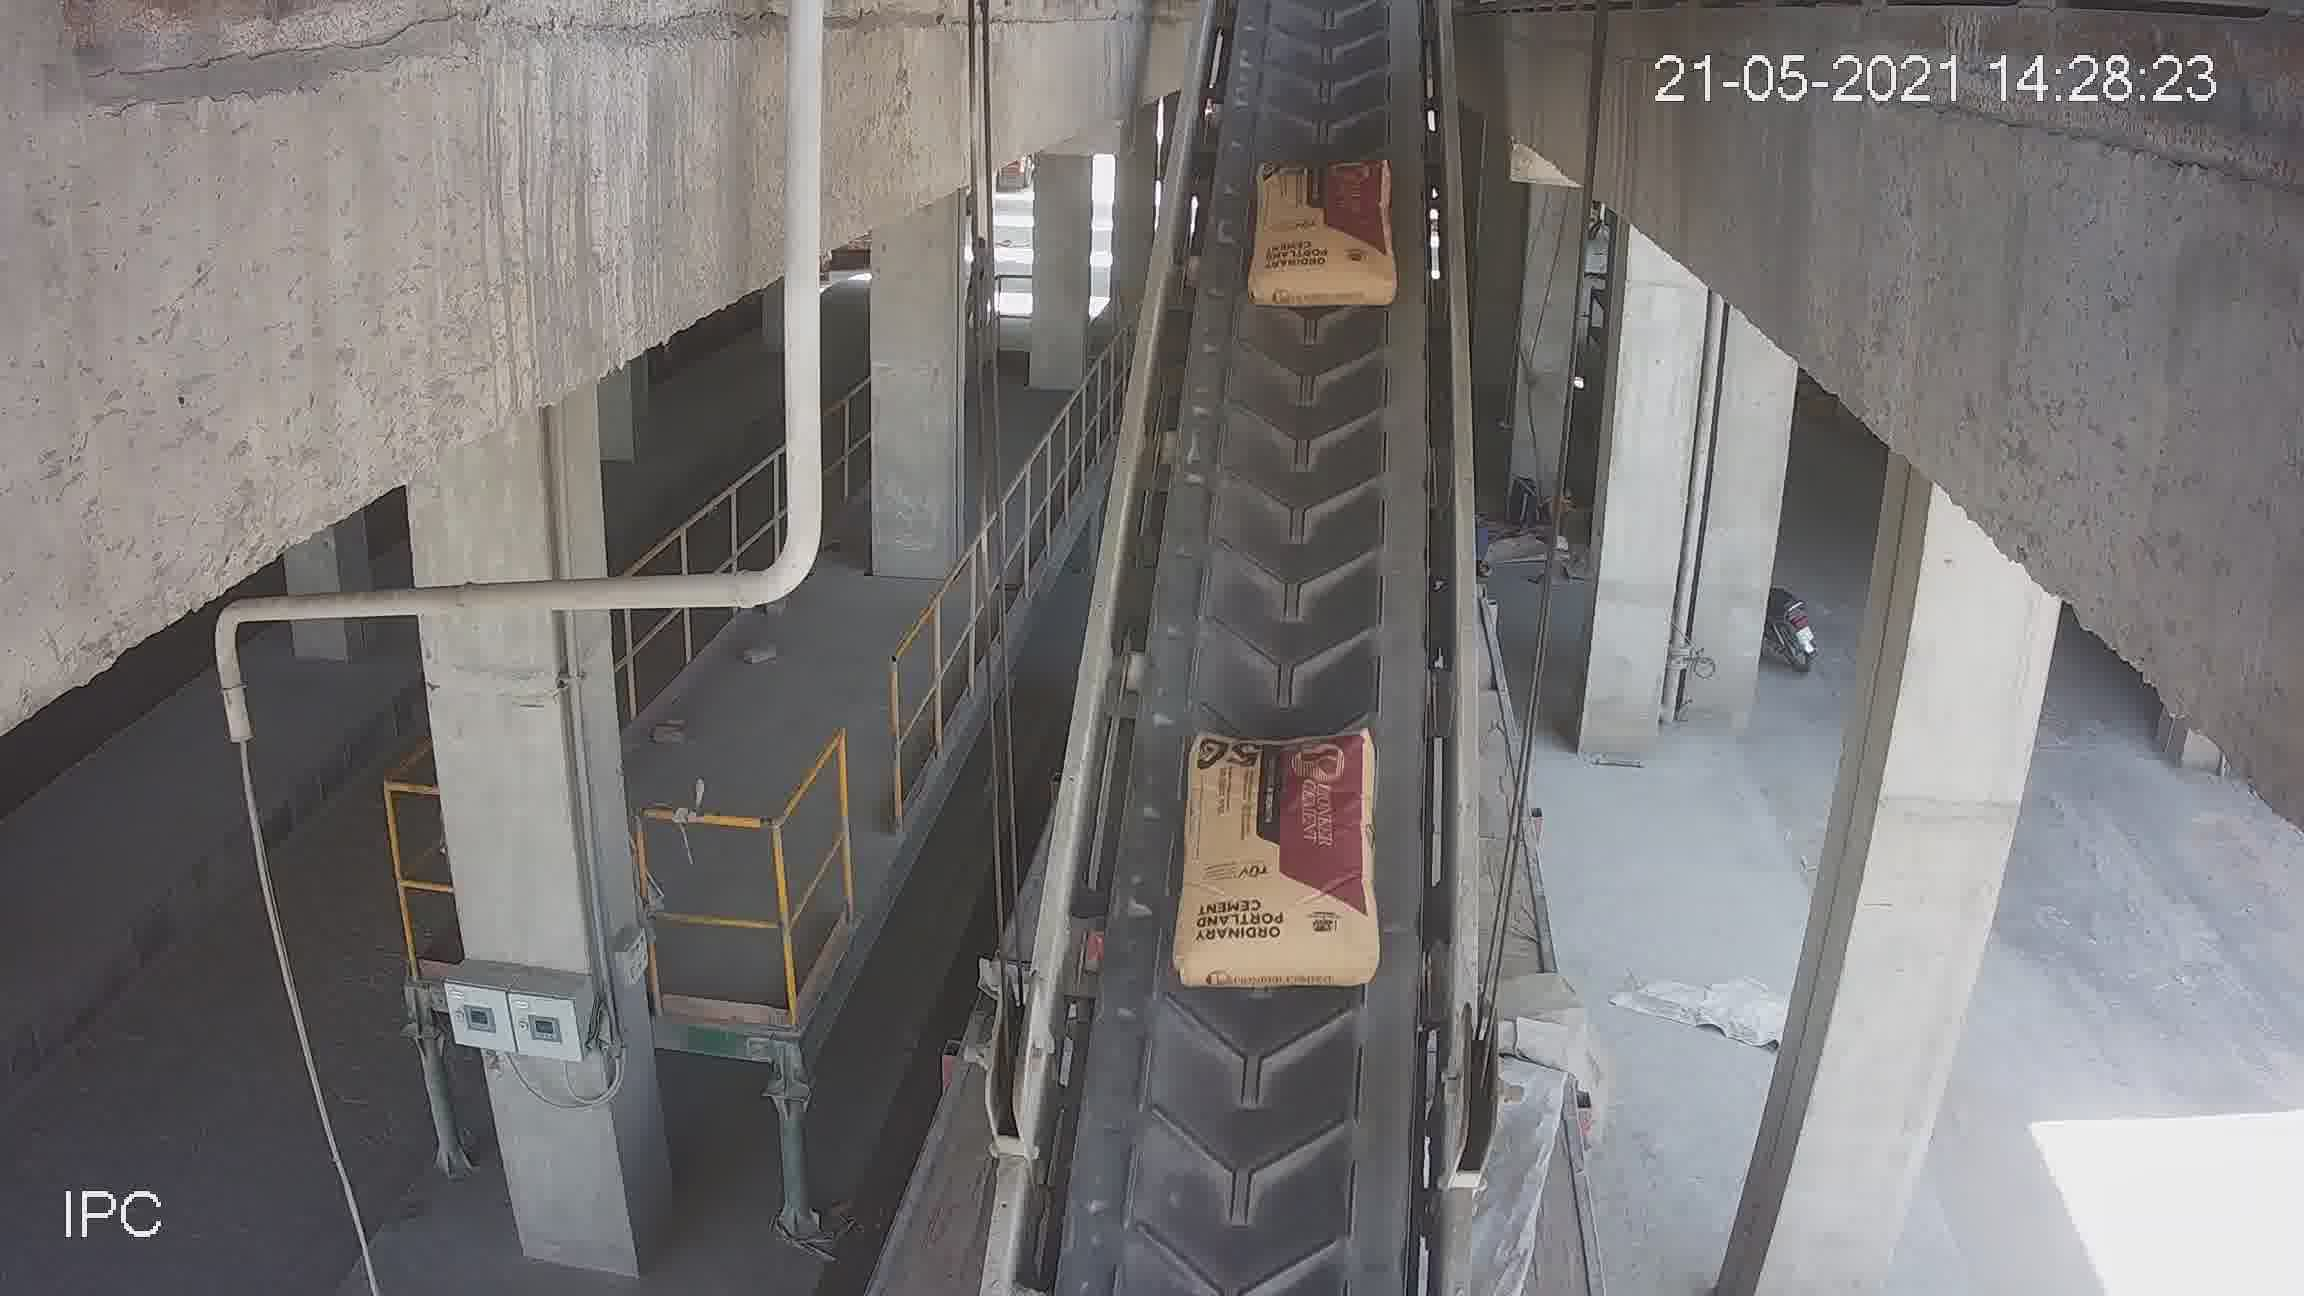bag: (1176, 736, 1362, 986), (1253, 158, 1393, 305)
belt: (1054, 30, 1513, 1282)
